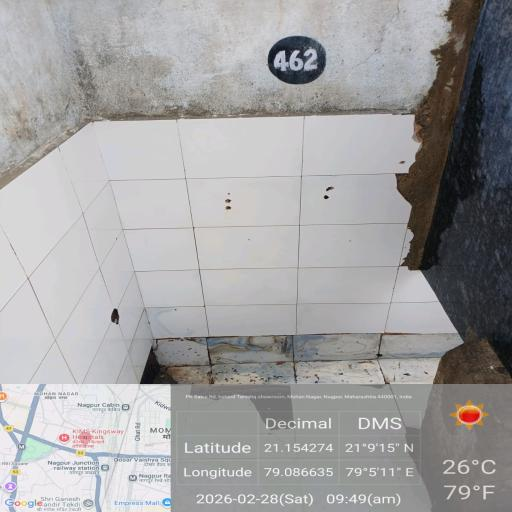clean_floor: (350, 19, 511, 479), (46, 36, 326, 300)
dirty_floor: (91, 331, 503, 512)
